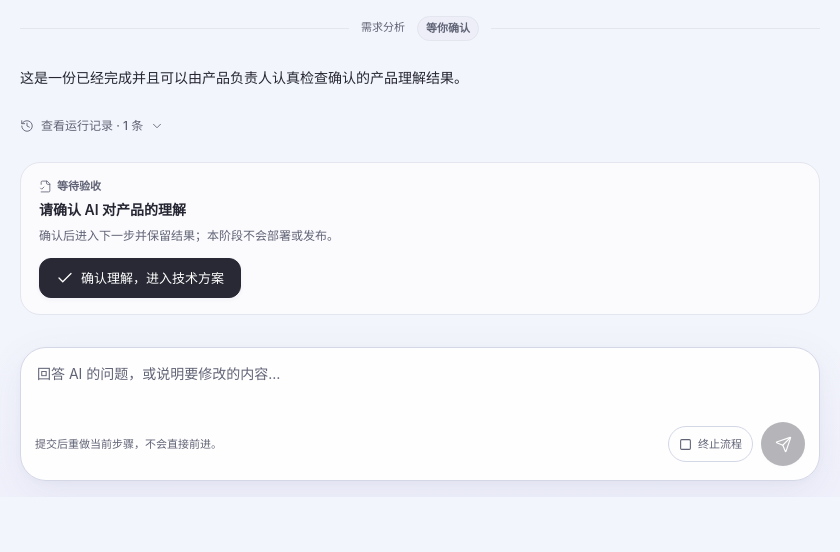
Test: RunConsole › retains feedback and shows the failure in the conversation when sending fails
Type "保留历史结果用于对比" into the text box named "补充回答或修改意见" at (420, 388), box [35,362,805,414]
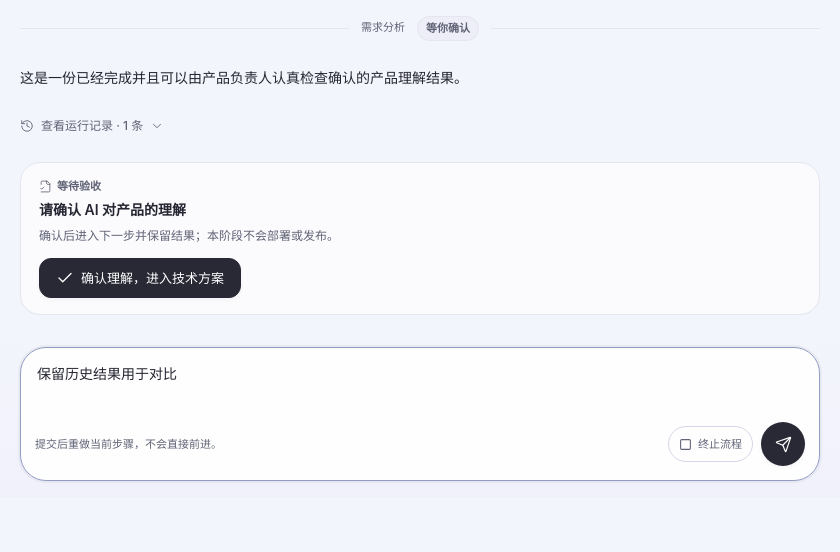
Click the button named "提交并重新分析" at (783, 444), box [761,422,805,466]
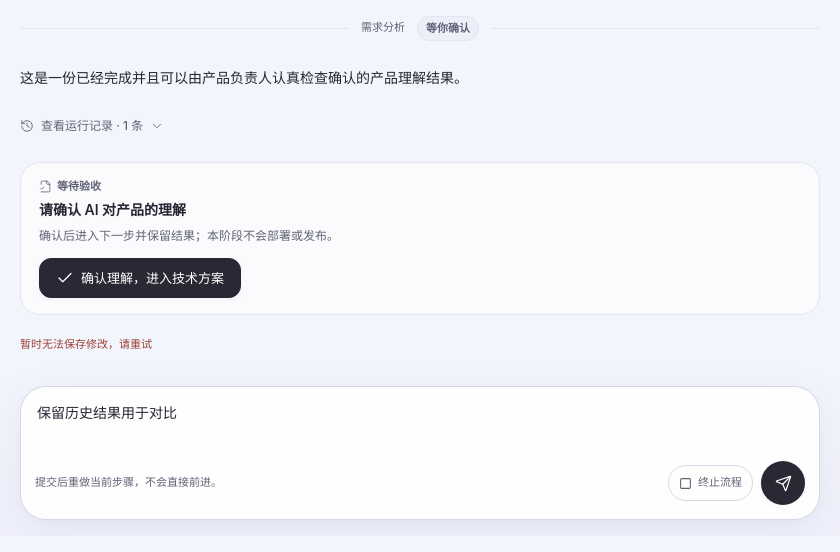
Expected: the button named "提交并重新分析" is enabled, [761,461,805,505]
Expected: the text "暂时无法保存修改，请重试" is shown, [20,338,152,352]
